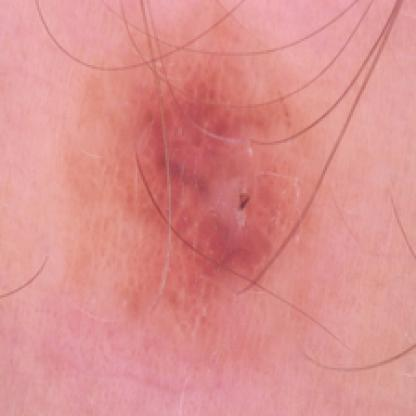benign: (122, 56, 314, 290)
